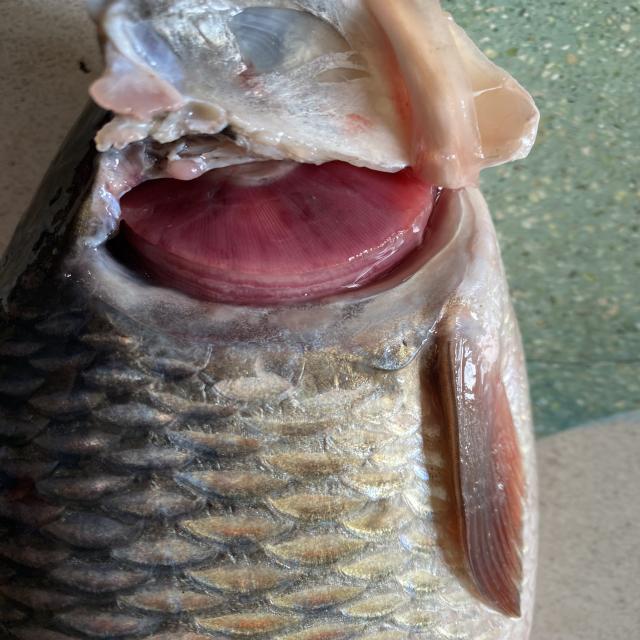Fresh: (91, 138, 461, 320)
